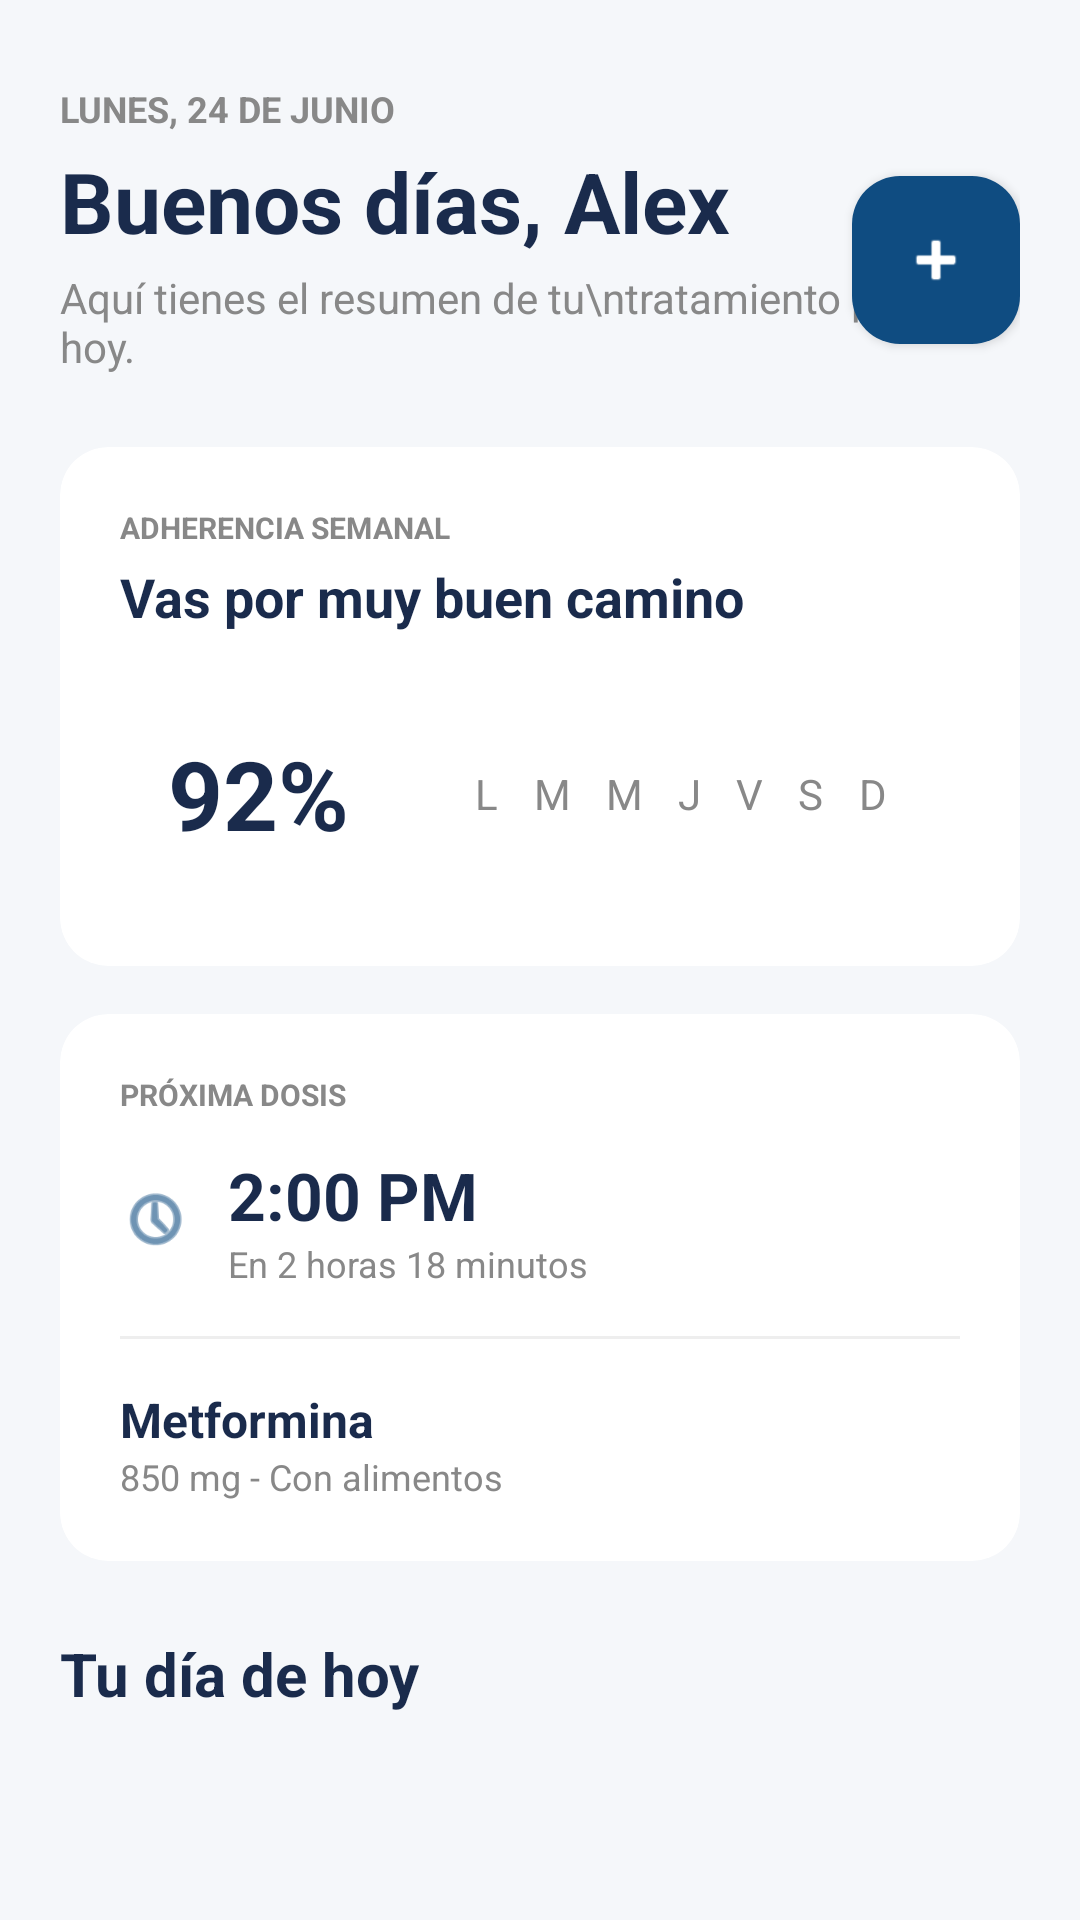

Icon click points for this 1080px x 1920px phone screenshot, format [x,y]:
add: [936,260]
